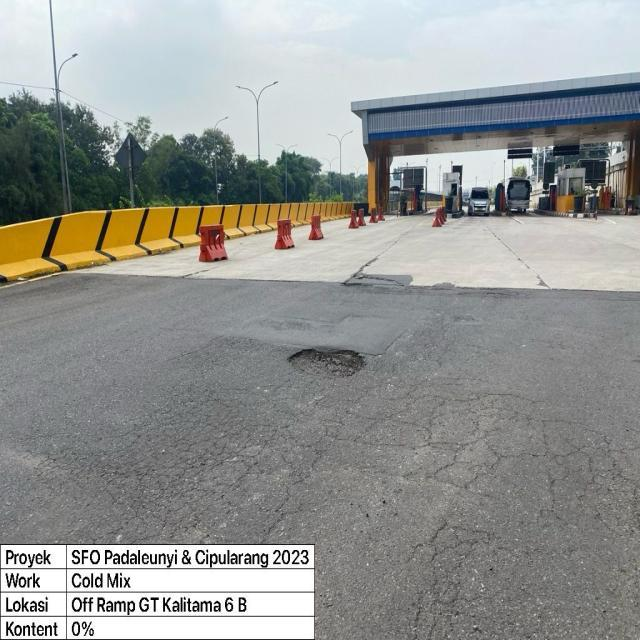Buraco: (285, 347, 369, 381), (339, 273, 406, 291)
